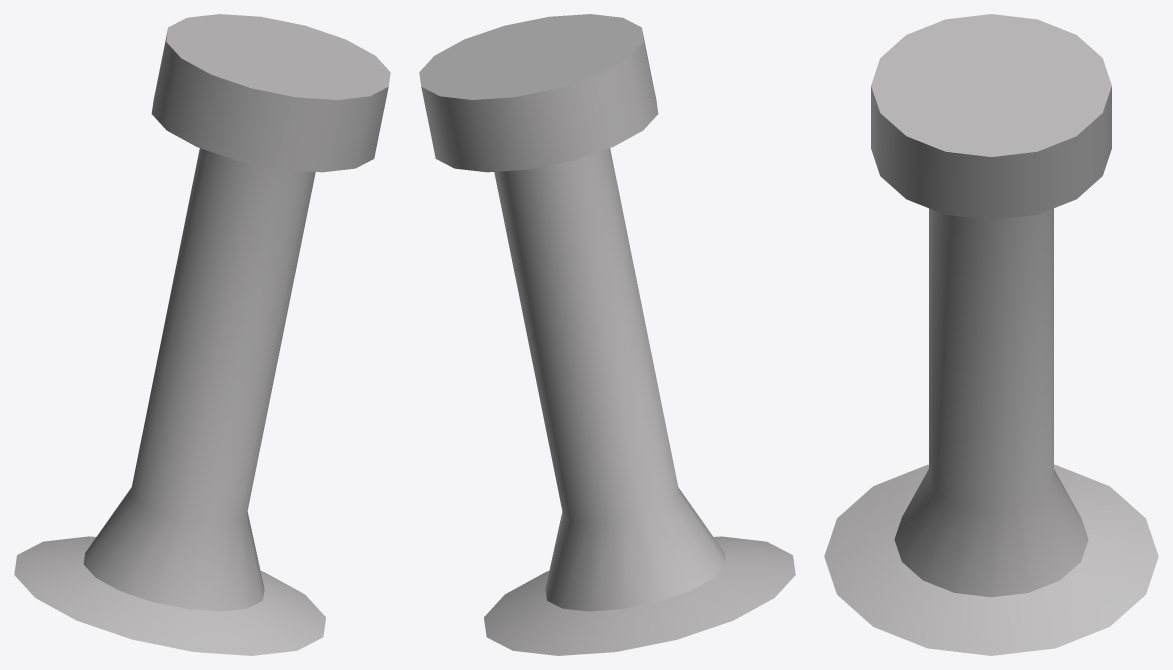
The model's file is LPump.fbx.
3 renders of one model, left to right at view 1: azimuth 30°, elevation 25°; view 2: azimuth 150°, elevation 25°; view 3: azimuth 270°, elevation 25°, orthographic. The views are drawn at different scales.
Parts seen in each view (by area): view 1: Cylinder.075; view 2: Cylinder.075; view 3: Cylinder.075.
Boxes of the visible parts, x1=… form: Cylinder.075: x1=14, y1=14, x2=390, y2=655; Cylinder.075: x1=419, y1=14, x2=795, y2=655; Cylinder.075: x1=824, y1=14, x2=1158, y2=655.
Size of the model in its own units: 105 by 167 by 87.51.
1 material, 1 textured.
